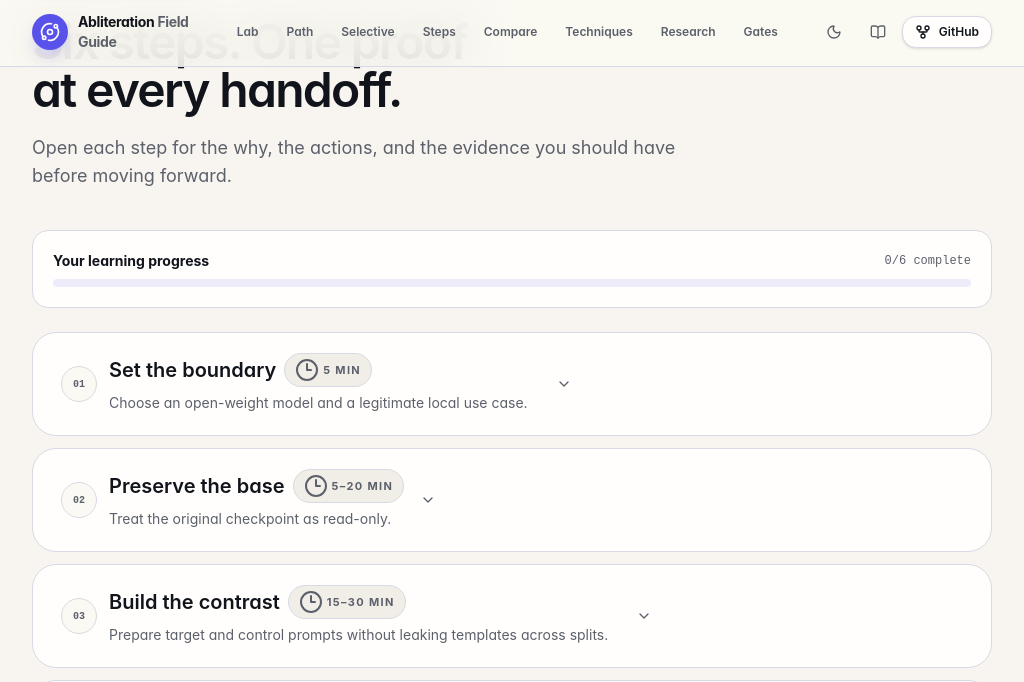
Test: Abliteration Field Guide › stores step completion and exposes a reset
This screenshot has width=1024, height=682.
(page scrolled)
Click the button named "Mark Set the boundary complete": (79, 384) [61,366,97,402]
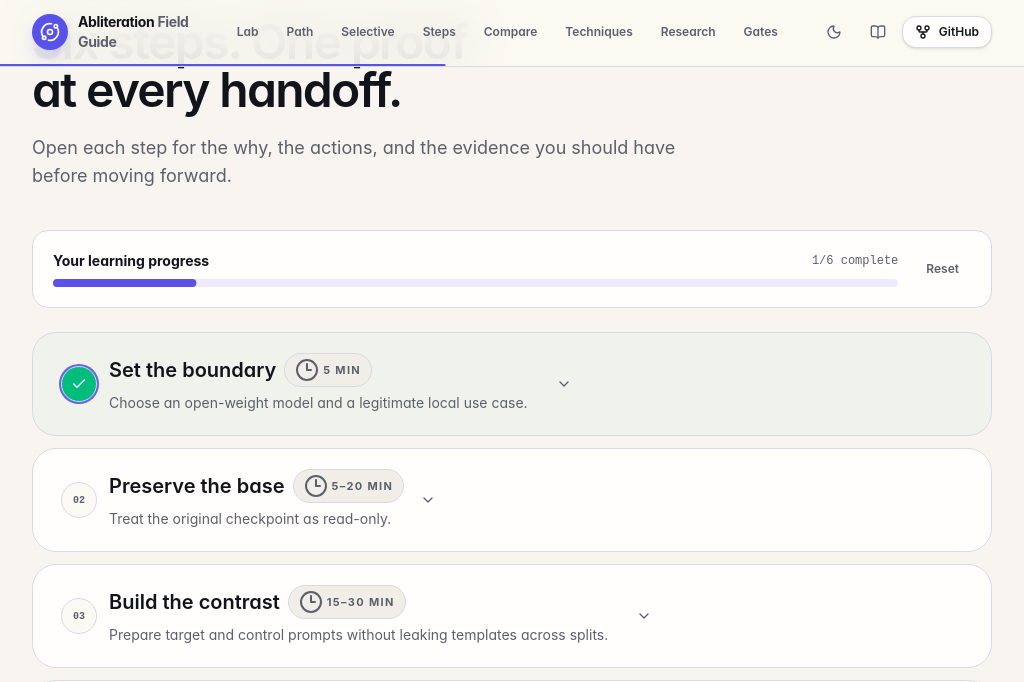
Check: the text "1/6 complete" is shown, box [812,253,898,269]
Click the button "Reset": (943, 269) [914,253,971,285]
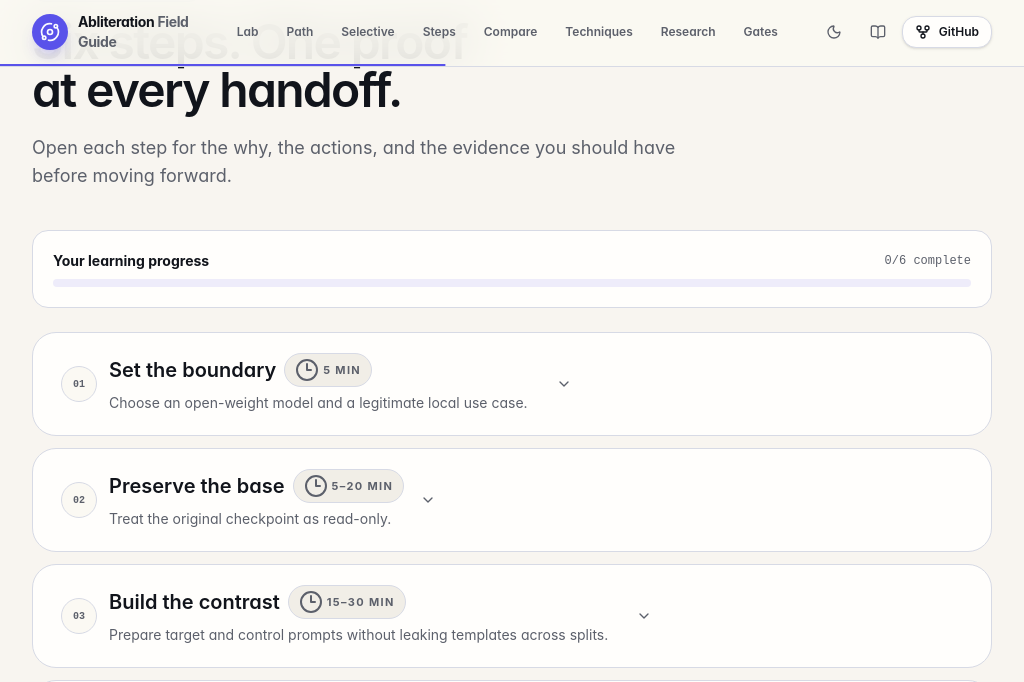
Check: the text "0/6 complete" is shown, box [885,253,971,269]
